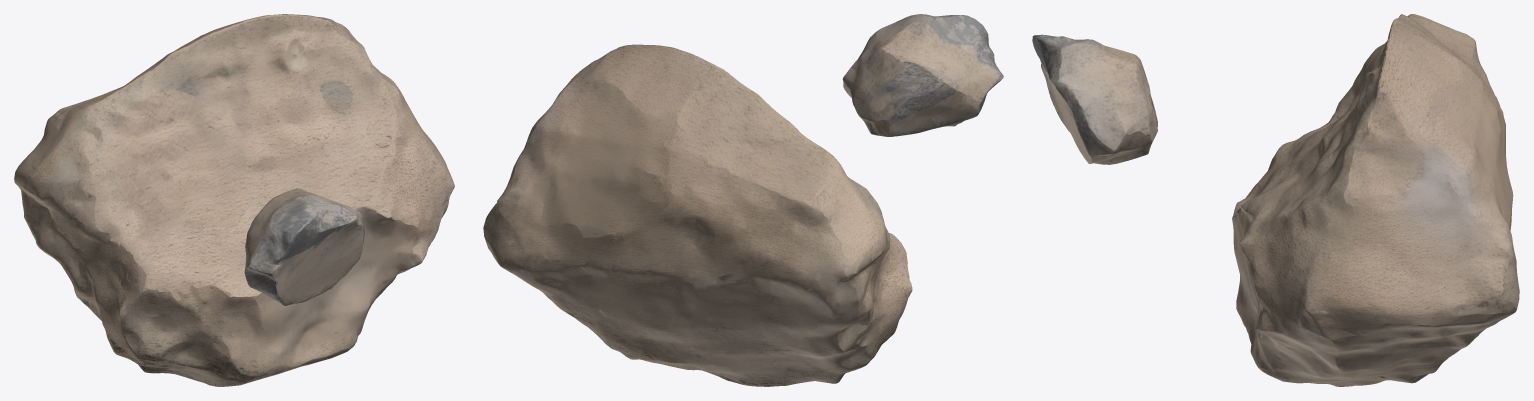
3 views of the same model, side by side, from view 1: azimuth 30°, elevation 25°; view 2: azimuth 150°, elevation 25°; view 3: azimuth 270°, elevation 25° (orthographic). The views are drawn at different scales.
Parts seen in each view (by area): view 1: textured_mesh; view 2: textured_mesh; view 3: textured_mesh.
Boxes of the visible parts, x1=… form: textured_mesh: x1=14, y1=14, x2=454, y2=386; textured_mesh: x1=483, y1=14, x2=1003, y2=386; textured_mesh: x1=1032, y1=14, x2=1519, y2=386.
Size of the model in its own units: 192 by 161 by 199.
Materials: 1 (1 with a texture image).
